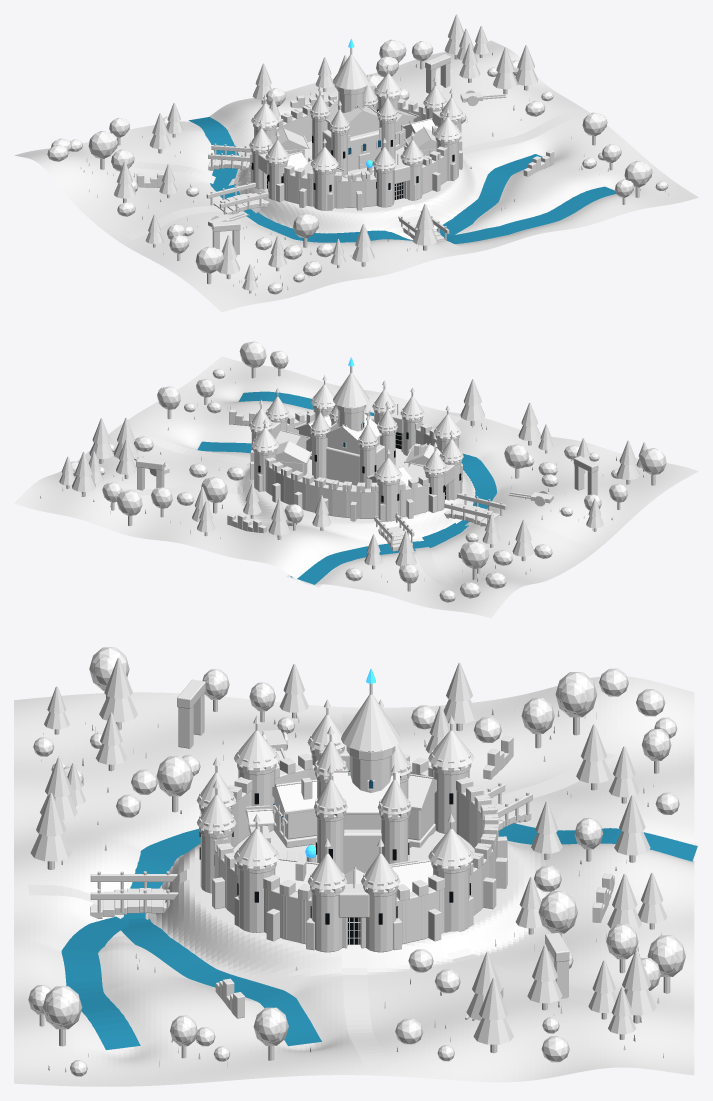
The model's file is castle-region-detailed.glb.
3 renders of one model, top to bottom at view 1: azimuth 30°, elevation 25°; view 2: azimuth 150°, elevation 25°; view 3: azimuth 270°, elevation 25°, orthographic. The views are drawn at different scales.
Parts seen in each view (by area): view 1: Castle Valley Terrain, Main blue river, South river branch, Winding approach road 3, Great Keep lower walls, Winding approach road 1, Mage tower grand blue spire, Winding approach road 4, Outer corner tower 3 stone body, Great Keep blue roof, South Gate left tower stone body, Valley tree 50 crown (+6 smaller); view 2: Castle Valley Terrain, Main blue river, Great Keep lower walls, Winding approach road 3, Winding approach road 4, Winding approach road 1, Mage tower grand blue spire, South river branch, Outer corner tower 2 stone body, Great Keep blue roof, Keep corner tower 4 stone body, Valley tree 50 crown (+10 smaller); view 3: Castle Valley Terrain, Main blue river, South river branch, Winding approach road 3, Mage tower grand blue spire, Winding approach road 5, Outer corner tower 4 stone body, East Gate left tower stone body, East Gate right tower stone body, Outer corner tower 1 stone body, Great Keep lower walls, Outer corner tower 2 stone body (+43 smaller).
Part boxes in pixels (x1,y1,x2,y2): Castle Valley Terrain: (14,40,698,312); Main blue river: (188,117,542,242); South river branch: (444,186,616,243); Winding approach road 3: (462,109,582,154); Great Keep lower walls: (322,129,380,171); Winding approach road 1: (124,188,267,239); Mage tower grand blue spire: (333,54,369,89); Winding approach road 4: (110,161,250,185); Outer corner tower 3 stone body: (313,171,335,210); Great Keep blue roof: (327,99,378,128); South Gate left tower stone body: (374,171,393,207); Valley tree 50 crown: (88,131,114,158); Castle Valley Terrain: (14,356,698,618); Main blue river: (197,441,496,584); Great Keep lower walls: (326,444,384,485); Winding approach road 3: (132,431,250,465); Winding approach road 4: (403,517,454,584); Winding approach road 1: (445,499,588,551); Mage tower grand blue spire: (333,373,369,407); South river branch: (238,391,374,415); Outer corner tower 2 stone body: (377,482,399,521); Great Keep blue roof: (325,413,380,445); Keep corner tower 4 stone body: (312,436,327,478); Valley tree 50 crown: (461,541,488,569); Castle Valley Terrain: (14,676,694,1086); Main blue river: (121,823,697,1046); South river branch: (61,913,145,1050); Winding approach road 3: (341,944,388,1065); Mage tower grand blue spire: (341,694,401,751); Winding approach road 5: (440,931,593,1003); Outer corner tower 4 stone body: (238,868,275,932); East Gate left tower stone body: (311,893,342,952); East Gate right tower stone body: (366,892,396,952); Outer corner tower 1 stone body: (433,868,469,932); Great Keep lower walls: (344,829,381,874); Outer corner tower 2 stone body: (433,770,469,833).
Size of the model in its own units: 24.4 by 7.5 by 18.53.
